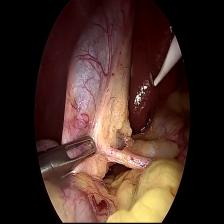Grasper: (34, 133, 98, 179)
Hook: (146, 37, 183, 92)
